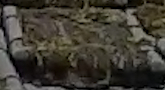bag: (2, 5, 164, 78)
